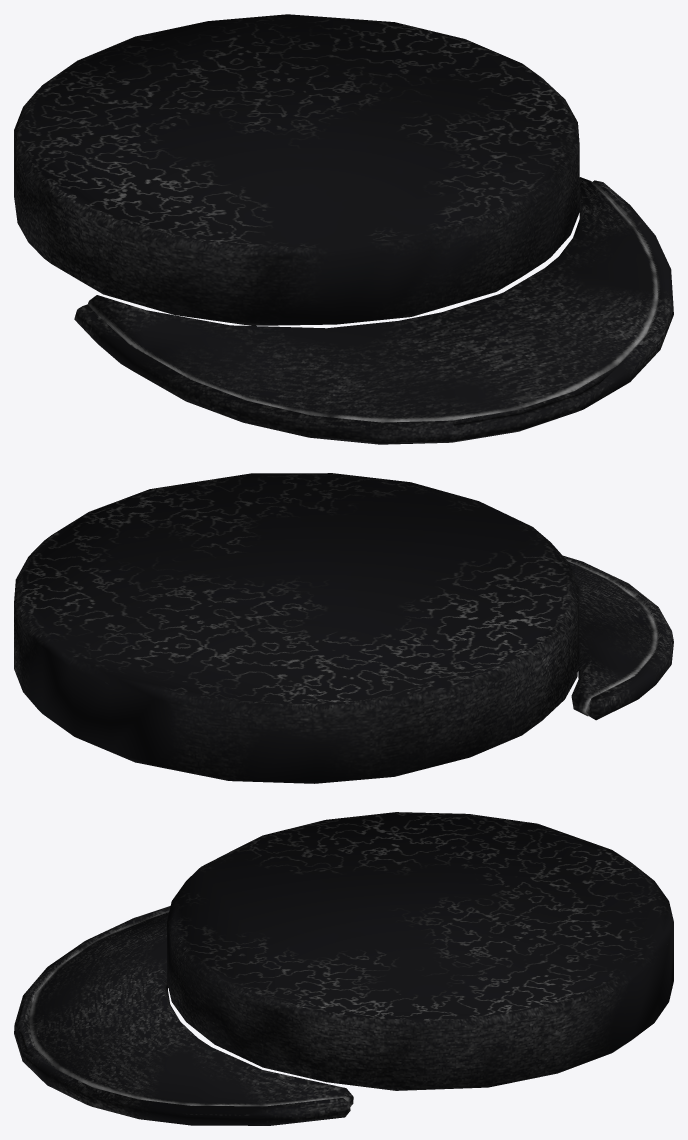
The model's file is Albatros_Gorra_Charol.fbx.
3 renders of one model, top to bottom at view 1: azimuth 30°, elevation 25°; view 2: azimuth 150°, elevation 25°; view 3: azimuth 270°, elevation 25°, orthographic. The views are drawn at different scales.
Parts seen in each view (by area): view 1: Albatros_Gorra_Charol; view 2: Albatros_Gorra_Charol; view 3: Albatros_Gorra_Charol.
Boxes of the visible parts, left/top/right/bottom form: Albatros_Gorra_Charol: left=14, top=14, right=673, bottom=444; Albatros_Gorra_Charol: left=14, top=473, right=673, bottom=783; Albatros_Gorra_Charol: left=14, top=812, right=673, bottom=1125.
Bounding box in the file's own units: 1.78 × 0.4376 × 2.14.
